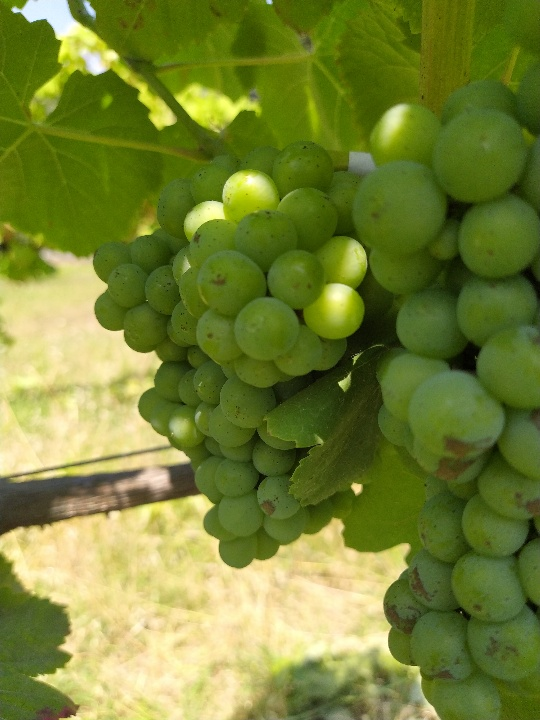grape: (89, 141, 354, 574)
